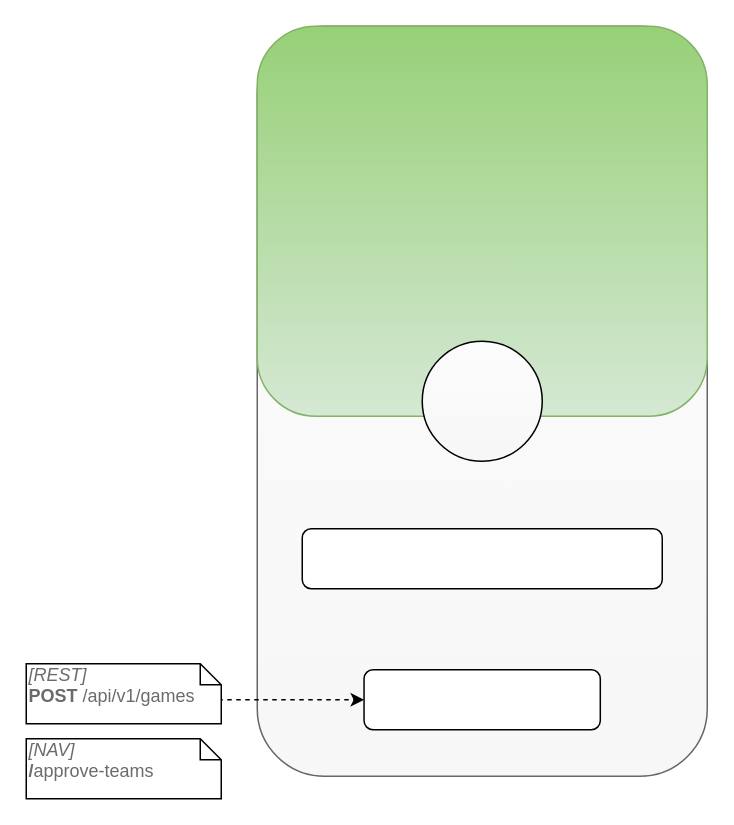
Some shapes in this 734 by 825 pixel diagram are drawn without their labels. The shapes that lost their labels are listed below. From the top down, each one's box as (x1, y1, x2, y2) in pixels, then its label:
(301, 527, 662, 589): Quiz Name
(363, 668, 600, 730): Create Quiz
